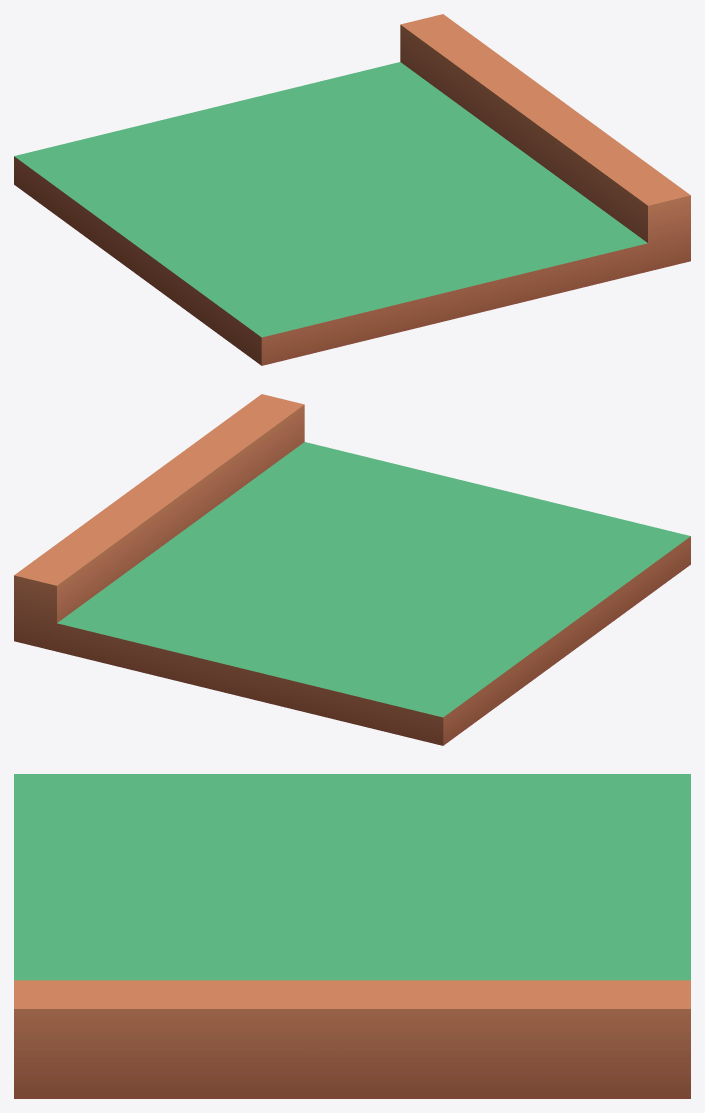
The model's file is side.glb.
3 renders of one model, top to bottom at view 1: azimuth 30°, elevation 25°; view 2: azimuth 150°, elevation 25°; view 3: azimuth 270°, elevation 25°, orthographic. The views are drawn at different scales.
Parts seen in each view (by area): view 1: side; view 2: side; view 3: side.
Boxes of the visible parts, bbox=[...] form: side: bbox=[14, 14, 690, 365]; side: bbox=[14, 394, 690, 745]; side: bbox=[14, 774, 690, 1098].
Bounding box in the file's own units: 0.9999 × 0.1466 × 0.9999.
Materials: 1 (1 with a texture image).
